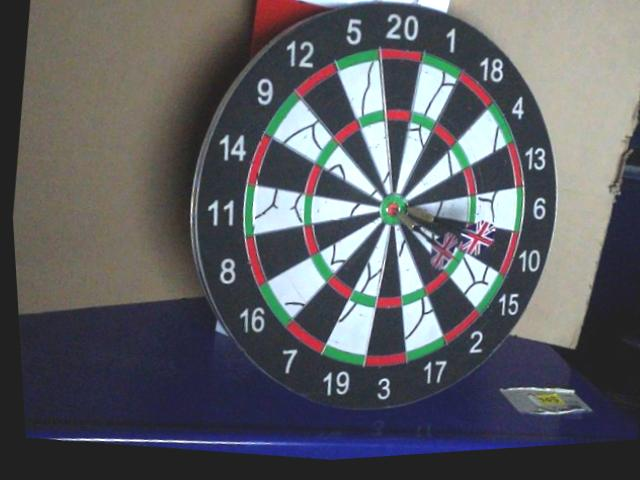bullseye: (381, 195, 408, 223)
